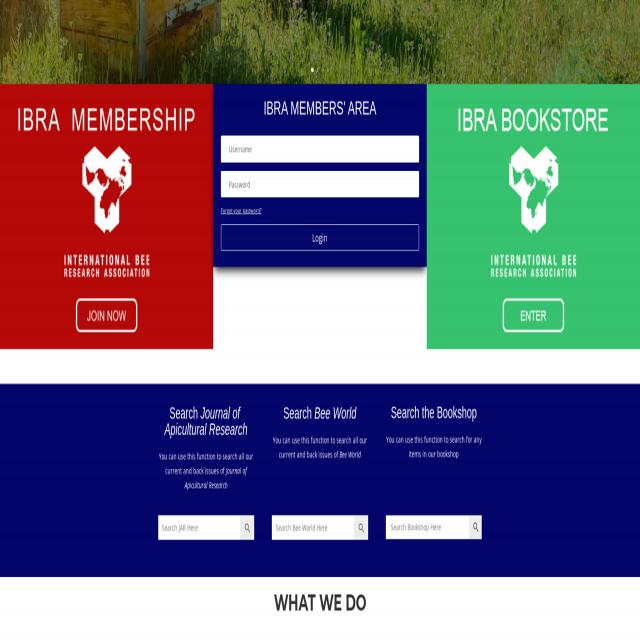button: (426, 84, 640, 350), (0, 84, 213, 349), (221, 224, 419, 250), (504, 298, 564, 332), (76, 299, 137, 332), (354, 516, 368, 539), (241, 516, 254, 539), (469, 516, 482, 538)
field: (221, 136, 419, 162), (221, 171, 419, 197), (386, 515, 470, 539), (158, 515, 241, 539), (272, 516, 354, 539)
